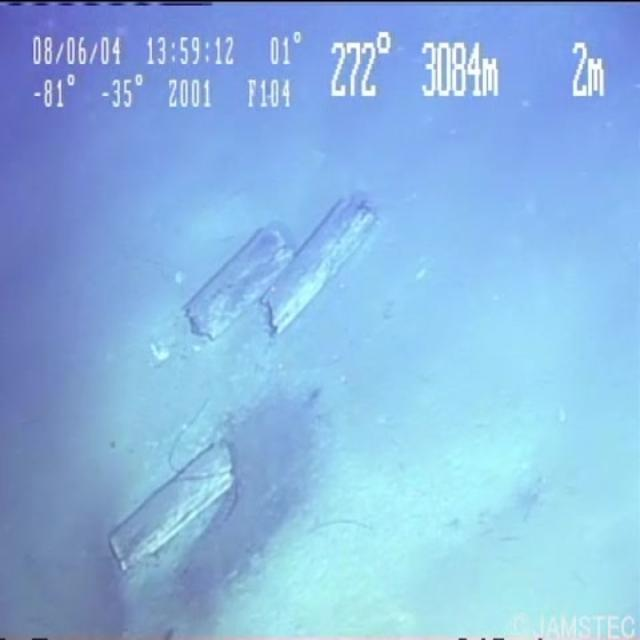Wood: (90, 428, 249, 579), (254, 198, 395, 356), (175, 208, 295, 361)
